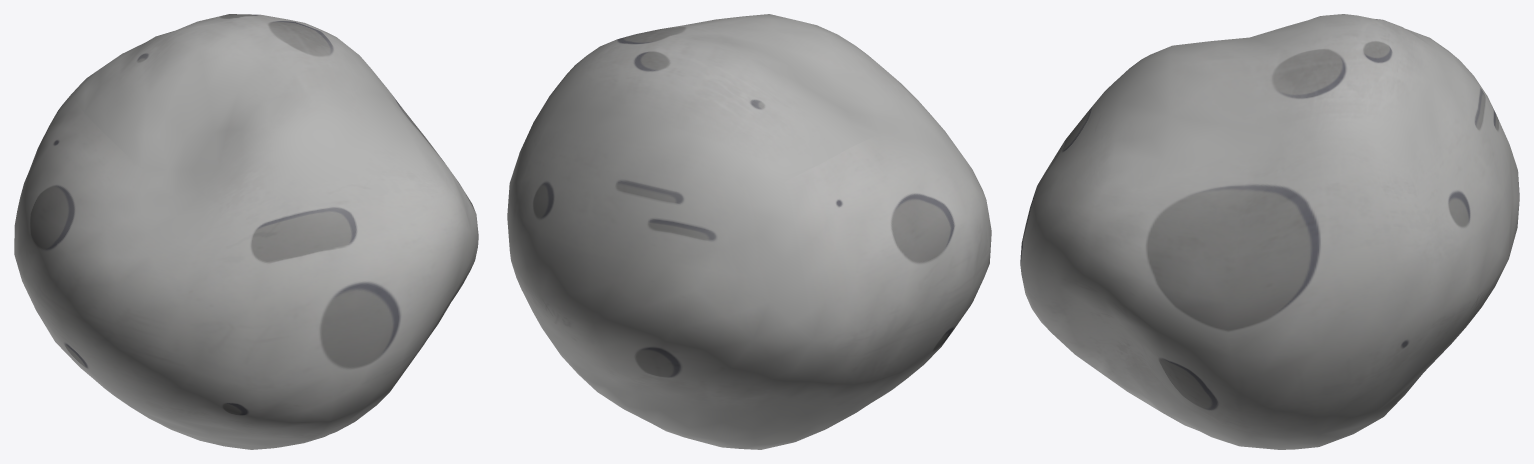
The model's file is asterer.fbx.
The picture shows the model from 3 angles, left to right: view 1: azimuth 30°, elevation 25°; view 2: azimuth 150°, elevation 25°; view 3: azimuth 270°, elevation 25°; orthographic projection. The views are drawn at different scales.
Parts seen in each view (by area): view 1: Cube; view 2: Cube; view 3: Cube.
Boxes of the visible parts, x1,y1,x2,y2 form: Cube: [14, 14, 478, 449]; Cube: [507, 14, 991, 449]; Cube: [1020, 14, 1519, 449].
Size of the model in its own units: 341 by 311 by 350.
1 material, 1 textured.
